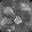people: (0, 16, 11, 30), (3, 6, 15, 16), (13, 16, 22, 25)
